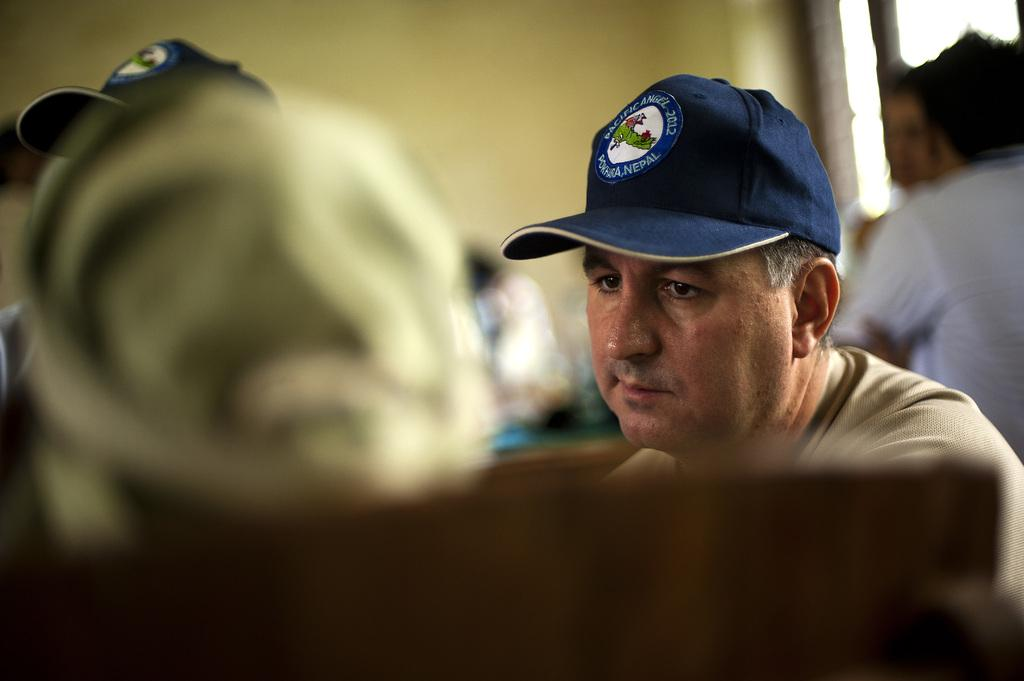Hat: (500, 72, 837, 262)
